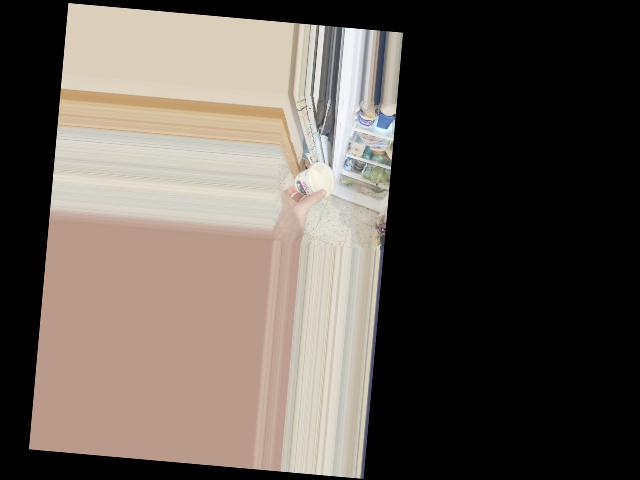cotage: (292, 155, 336, 202)
